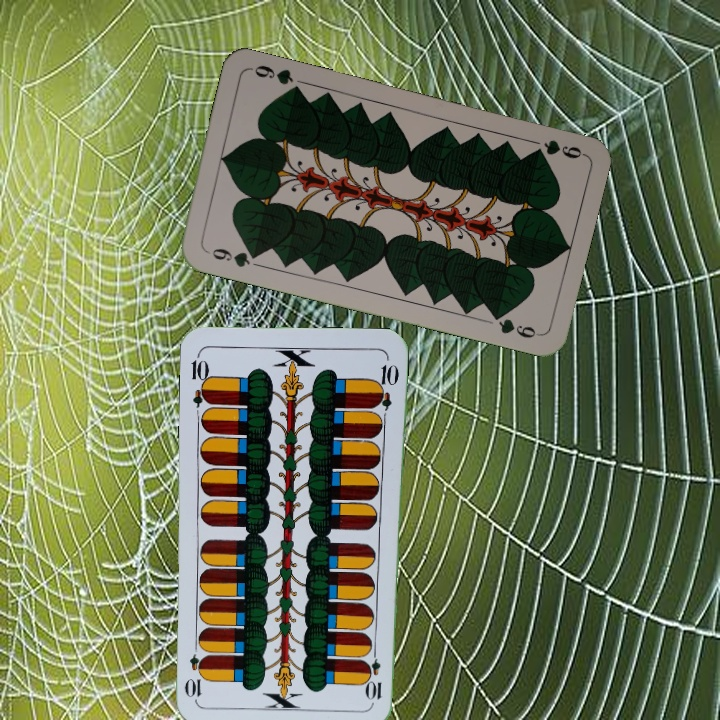E10: (187, 350, 213, 409), (366, 643, 384, 702)
G9: (529, 135, 586, 161), (208, 244, 262, 270)
